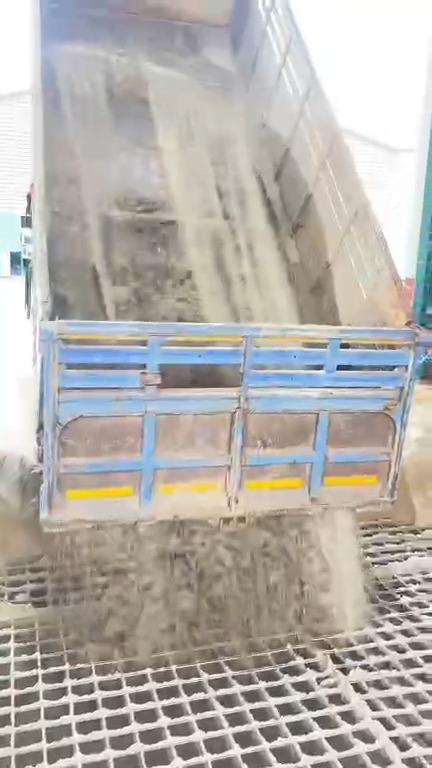sand: (0, 468, 367, 660), (45, 47, 293, 322), (392, 446, 431, 526), (0, 586, 33, 618)
